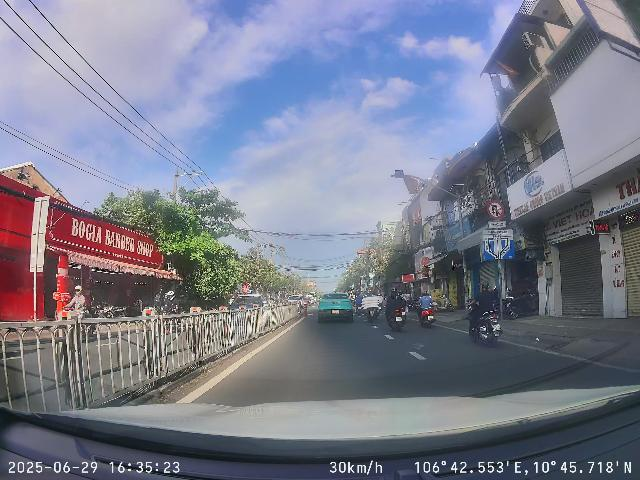124b-cam-oto-quay-dau-xe: (487, 200, 504, 220)
